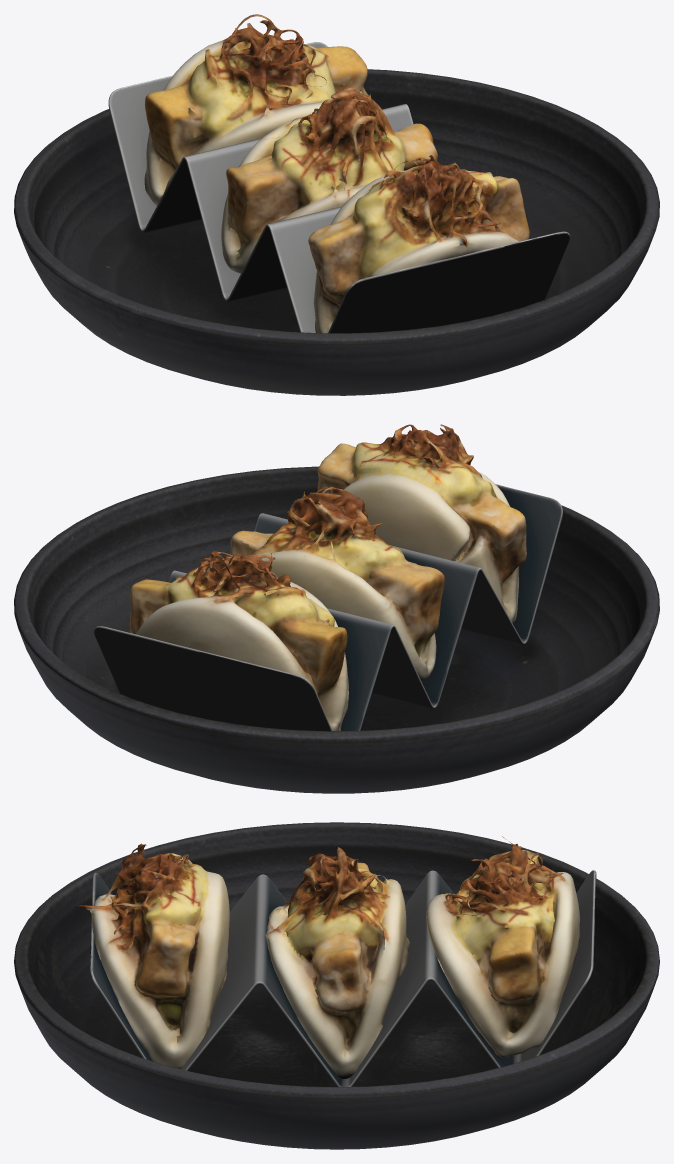
Rendered from Fried_tofu_boa.FBX.
The picture shows the model from 3 angles, top to bottom: view 1: azimuth 30°, elevation 25°; view 2: azimuth 150°, elevation 25°; view 3: azimuth 270°, elevation 25°; orthographic projection.
Visible parts, largest first — view 1: Fried tofu boa; view 2: Fried tofu boa; view 3: Fried tofu boa.
Boxes of the visible parts, box(x1,y1,x2,y2) form: Fried tofu boa: box(14, 14, 659, 395); Fried tofu boa: box(14, 424, 659, 793); Fried tofu boa: box(14, 822, 659, 1149).
Bounding box in the file's own units: 4.35 × 1.63 × 4.35.
1 material, 1 textured.
